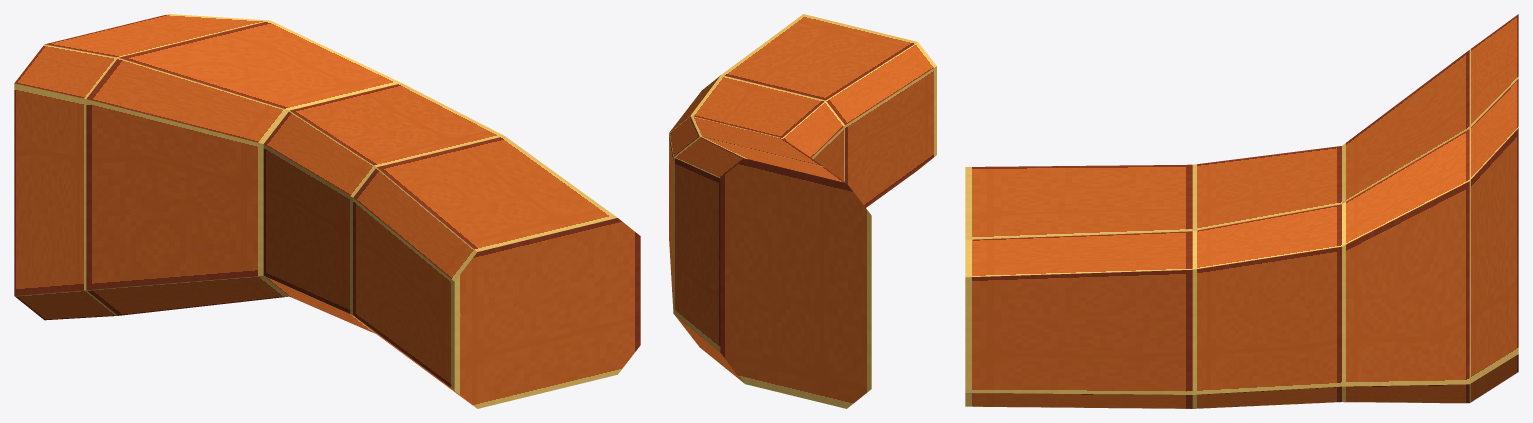
Rendered from bench_hoe_0_hot.obj.
3 views of the same model, side by side, from view 1: azimuth 30°, elevation 25°; view 2: azimuth 150°, elevation 25°; view 3: azimuth 270°, elevation 25° (orthographic). The views are drawn at different scales.
Visible parts, largest first — view 1: geometry; view 2: geometry; view 3: geometry.
Part boxes in pixels (box(x1,y1,x2,y2)): geometry: box(14, 14, 640, 408); geometry: box(669, 14, 936, 408); geometry: box(965, 14, 1518, 408).
Size of the model in its own units: 0.3475 by 0.25 by 0.4272.
